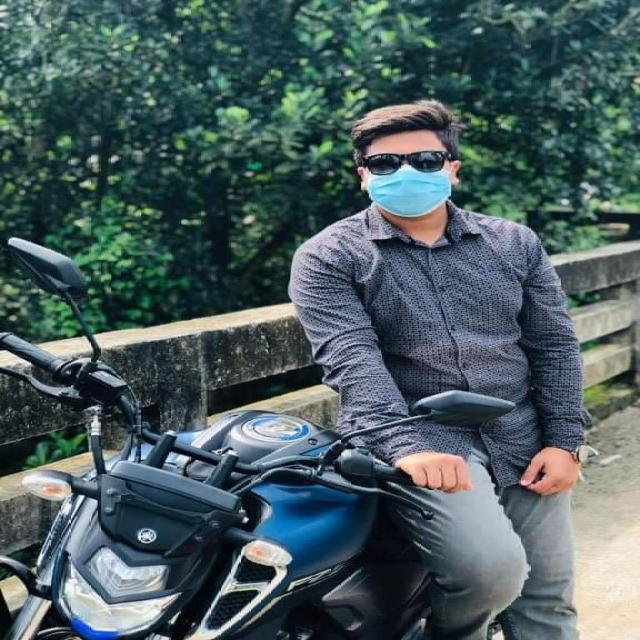Not Wearing Helmet: (249, 30, 542, 253)
